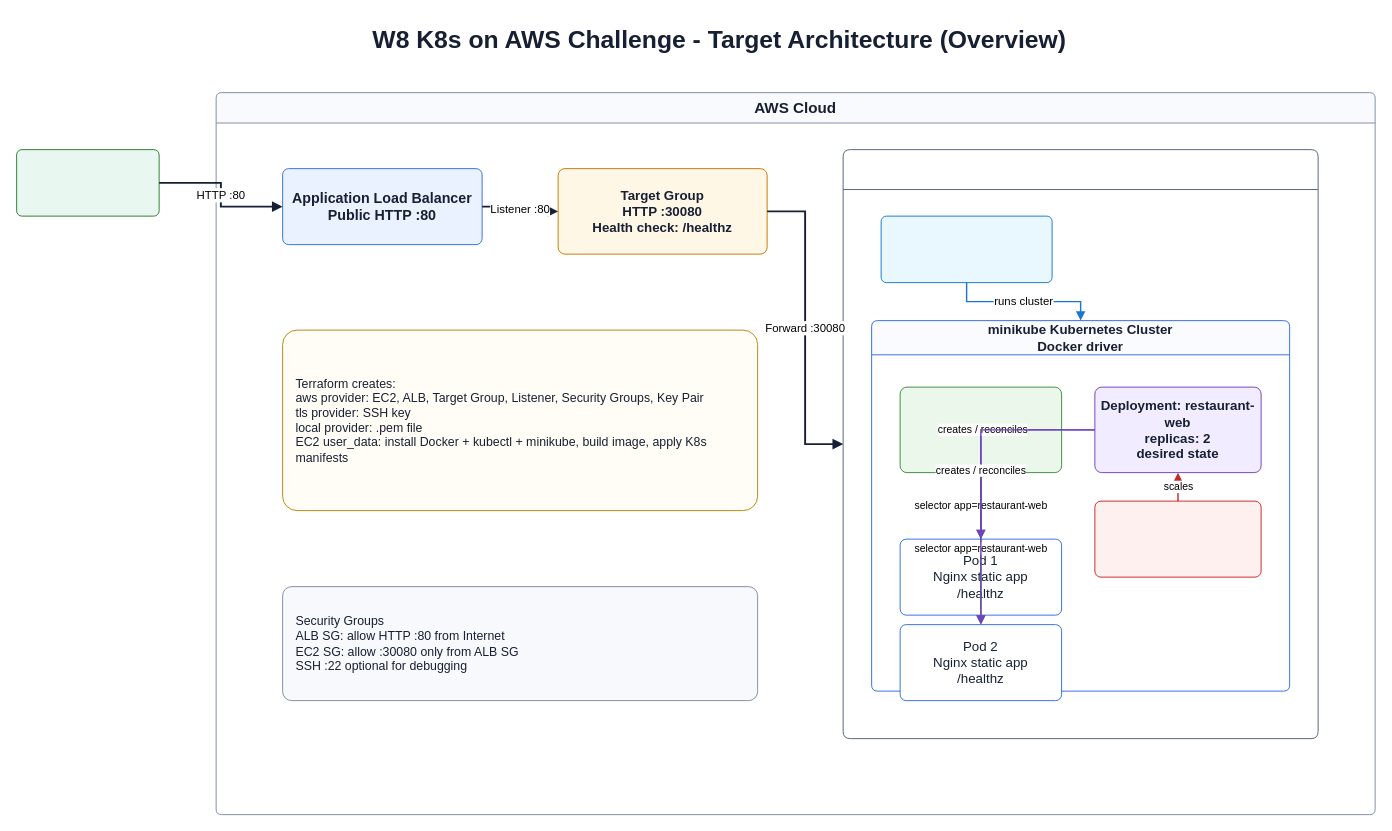
Image size: 1392x831. Some labels were removed from this diagram. Each missing label, with the box of its shape:
Docker Engine container runtime: (880, 215, 1052, 283)
EC2 Instance t3.micro/t3.medium Ubuntu + user data bootstrap: (842, 149, 1318, 739)
HPA min: 2 max: 5 CPU target: 70%: (1094, 500, 1261, 577)
Service: restaurant-web Type: NodePort 80 -> 30080: (899, 386, 1062, 473)
User Browser HTTP :80: (16, 149, 159, 216)
